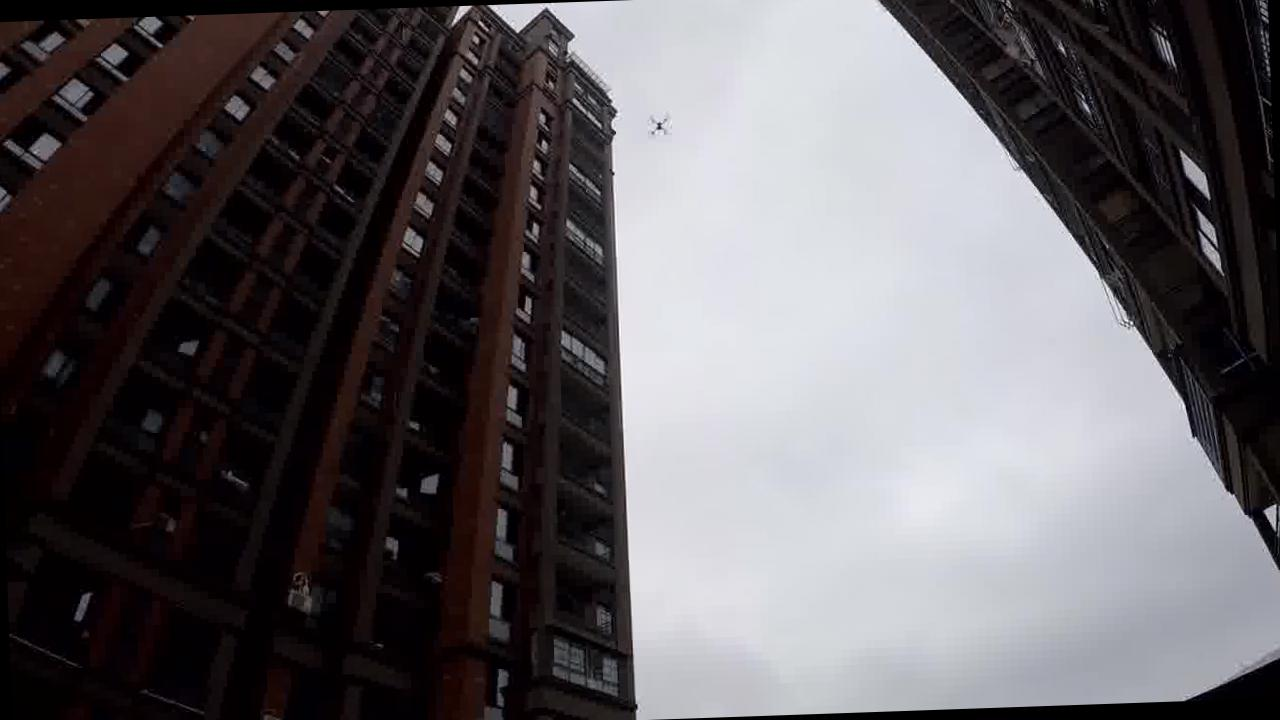drone: (636, 99, 694, 149)
